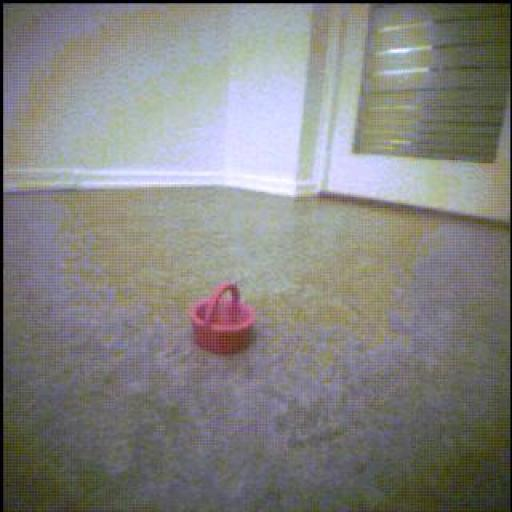Bucket: (190, 283, 257, 355)
